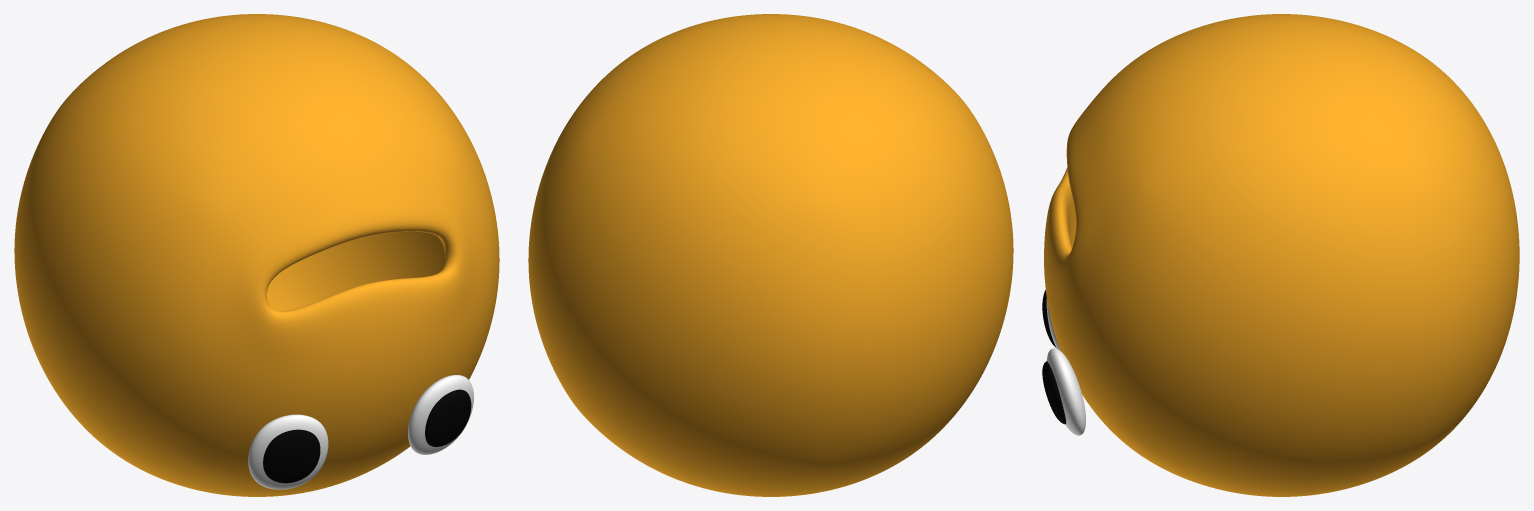
File: Flip Face.glb
3 renders of one model, left to right at view 1: azimuth 30°, elevation 25°; view 2: azimuth 150°, elevation 25°; view 3: azimuth 270°, elevation 25°, orthographic.
Visible parts, largest first — view 1: Cube, Cube.001, Cube.003_Cube.002; view 2: Cube; view 3: Cube, Cube.001, Cube.003_Cube.002.
Boxes of the visible parts, <box> form: Cube: <box>14,14,499,496</box>; Cube.001: <box>248,375,473,489</box>; Cube.003_Cube.002: <box>263,389,471,483</box>; Cube: <box>528,14,1013,496</box>; Cube: <box>1044,14,1519,496</box>; Cube.001: <box>1046,299,1085,435</box>; Cube.003_Cube.002: <box>1042,290,1066,424</box>.
Bounding box in the file's own units: 1.66 × 1.66 × 1.66.
